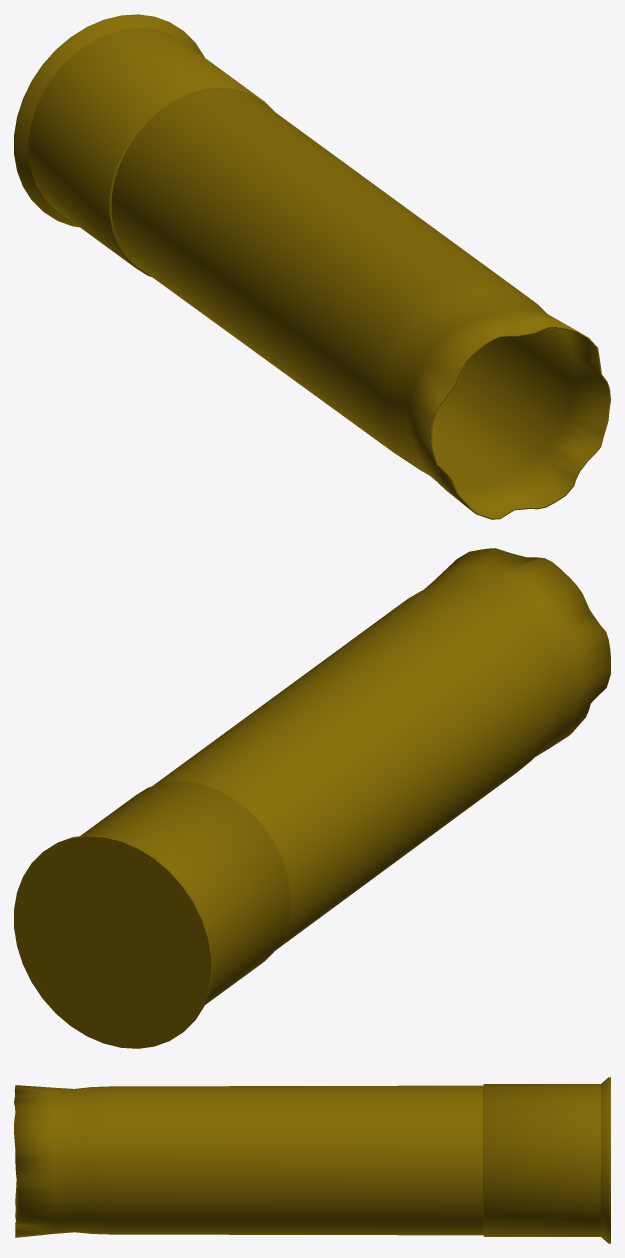
Rendered from 12ga_Shell_APslug.FBX.
The picture shows the model from 3 angles, top to bottom: view 1: azimuth 30°, elevation 25°; view 2: azimuth 150°, elevation 25°; view 3: azimuth 270°, elevation 25°; orthographic projection. The views are drawn at different scales.
Parts seen in each view (by area): view 1: 12ga_Shell_APslug; view 2: 12ga_Shell_APslug; view 3: 12ga_Shell_APslug.
Part boxes in pixels (x1,y1,x2,y2): 12ga_Shell_APslug: [14, 14, 610, 519]; 12ga_Shell_APslug: [14, 548, 610, 1048]; 12ga_Shell_APslug: [14, 1077, 610, 1243].
Size of the model in its own units: 2.04 by 7.34 by 2.04.
